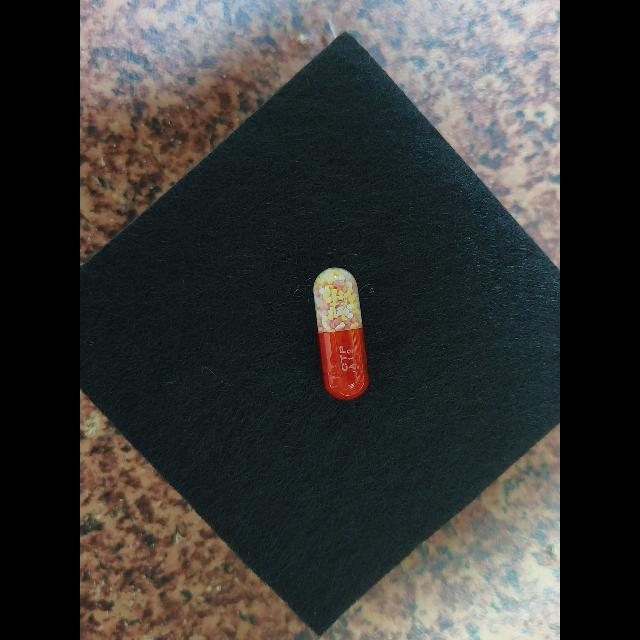Intact Capsule: (313, 268, 369, 400)
